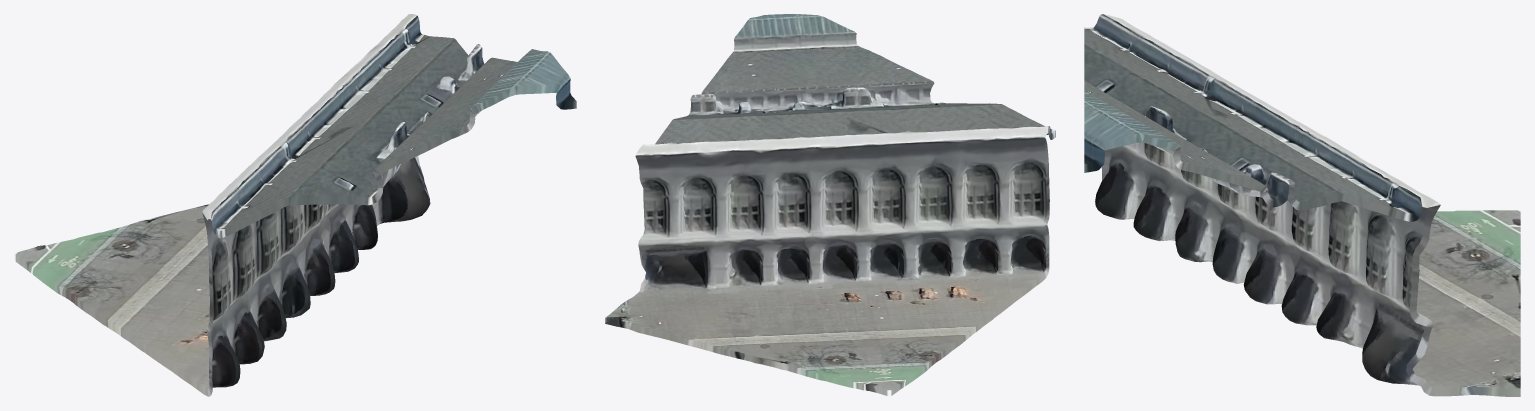
Rendered from z20-167789-405219-h0-yup-uvflip-v3-world.glb.
3 views of the same model, side by side, from view 1: azimuth 30°, elevation 25°; view 2: azimuth 150°, elevation 25°; view 3: azimuth 270°, elevation 25° (orthographic). The views are drawn at different scales.
Size of the model in its own units: 30.16 by 20.6 by 30.32.
Materials: 1 (1 with a texture image).
